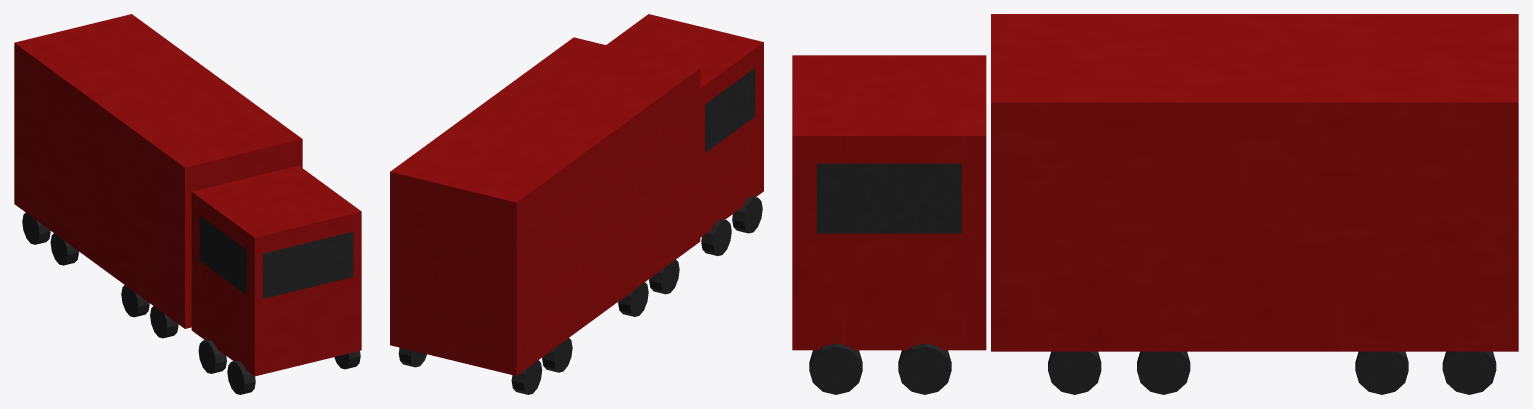
The model's file is truck.fbx.
3 views of the same model, side by side, from view 1: azimuth 30°, elevation 25°; view 2: azimuth 150°, elevation 25°; view 3: azimuth 270°, elevation 25° (orthographic). The views are drawn at different scales.
Visible parts, largest first — view 1: truck; view 2: truck; view 3: truck.
Part boxes in pixels (x1,y1,x2,y2): truck: (14,14,361,394); truck: (390,14,763,394); truck: (792,14,1518,394).
Size of the model in its own units: 210 by 323 by 727.
